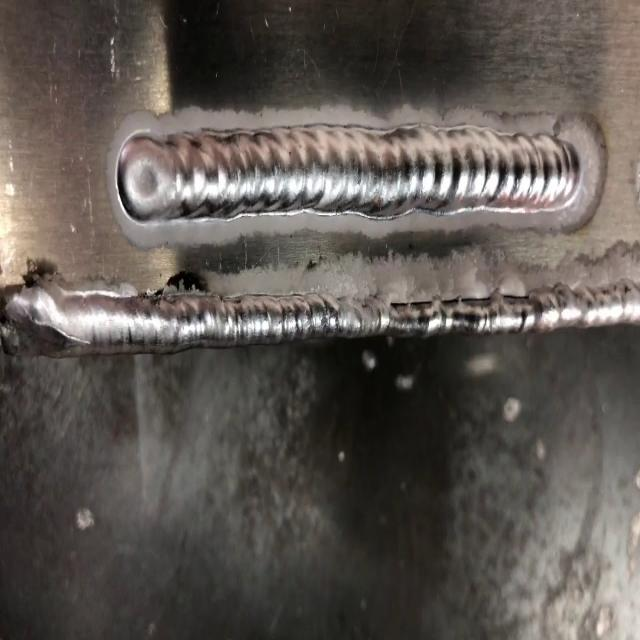Dry: (10, 279, 640, 342), (124, 131, 576, 216)
